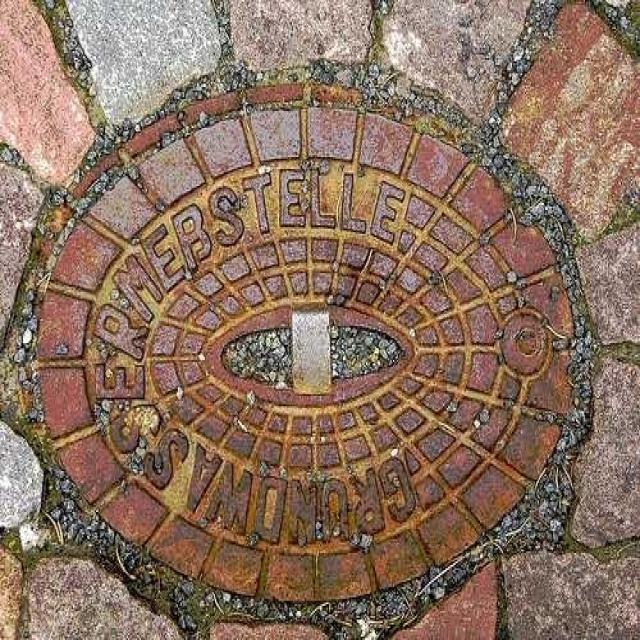manhole: (35, 82, 590, 625)
